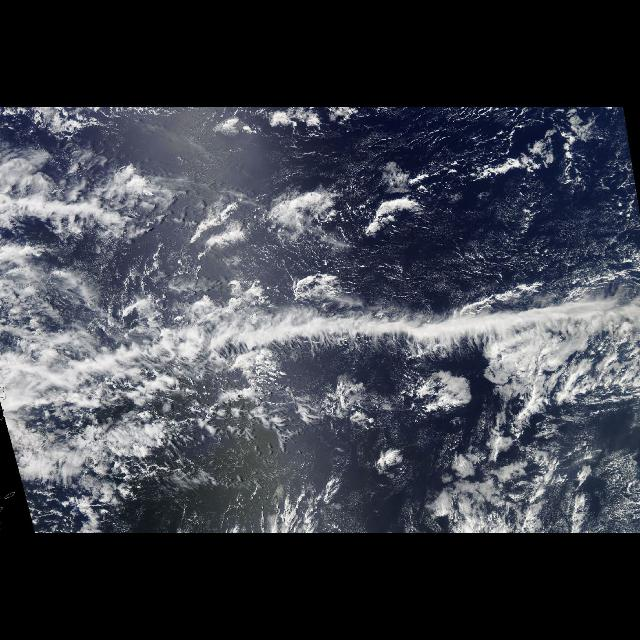Fish: (0, 242, 640, 450)
Sugar: (356, 110, 640, 274)
